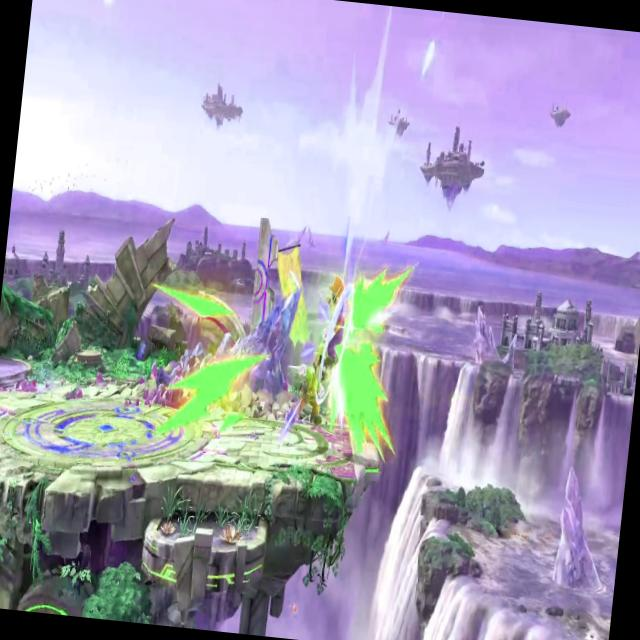Mario: (314, 270, 368, 371)
Mario-US: (282, 336, 338, 442)
